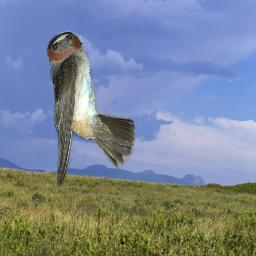Swallow: (46, 31, 135, 190)
